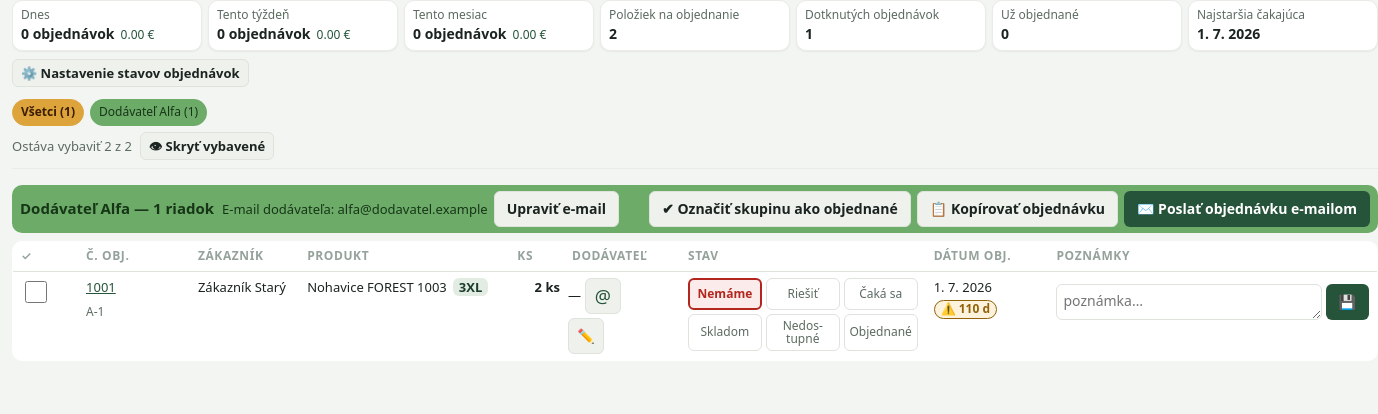
Scenario: kopírovanie objednávky do schránky použije text náhľadu
Click the button "📋 Kopírovať objednávku" at (1017, 209), box [917,191,1118,227]
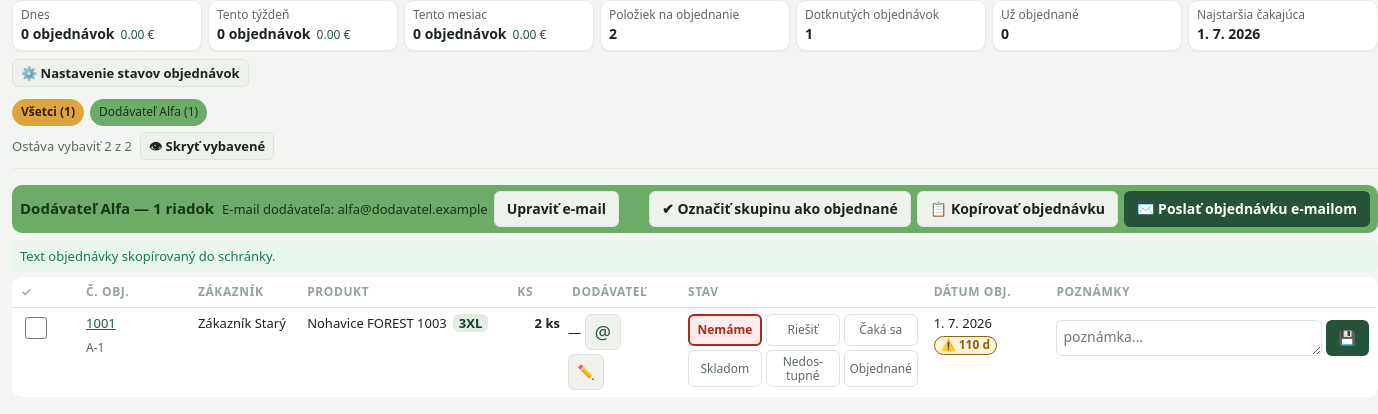
Expected: the message shows "schránky", [20,247,276,265]
